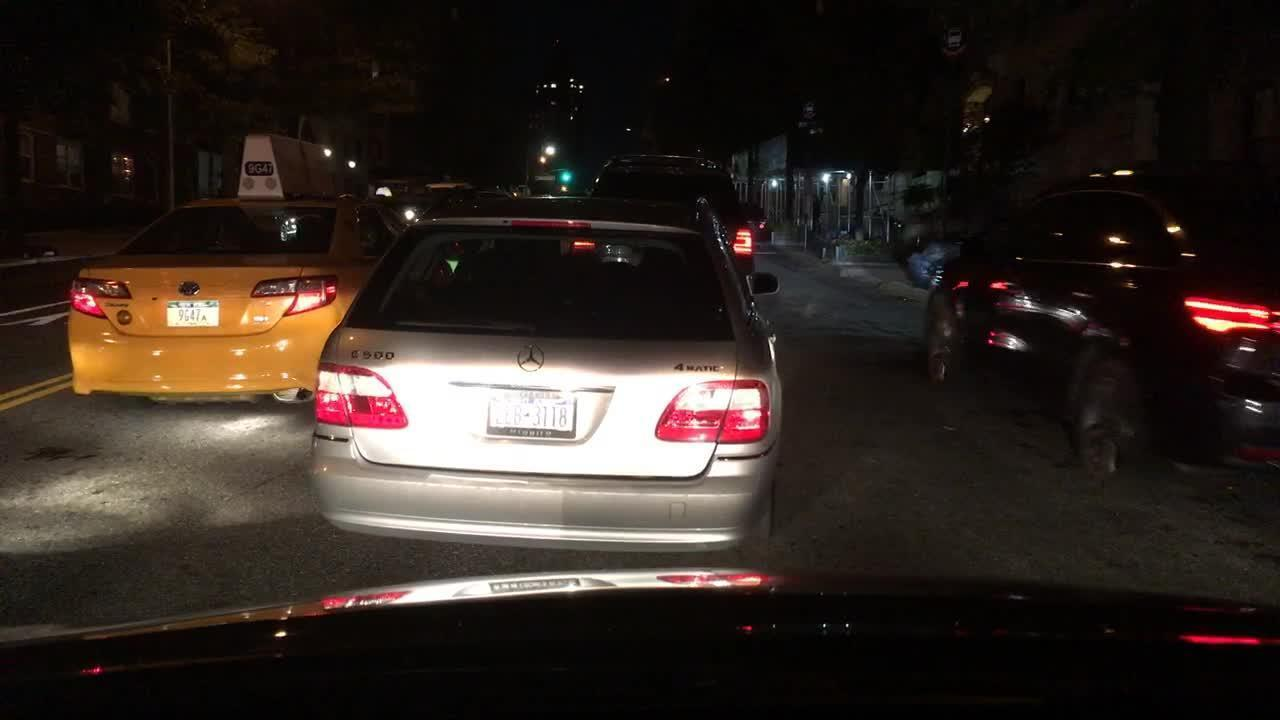Mercedes: (505, 332, 555, 382)
